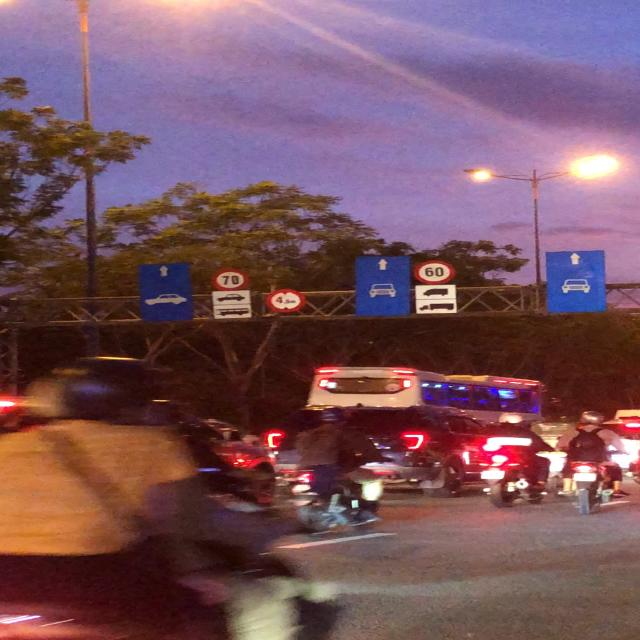Bien bao han che chieu cao: (264, 288, 309, 314)
Bien bao toc do toi da cho phep: (408, 256, 462, 284), (206, 266, 250, 293)
